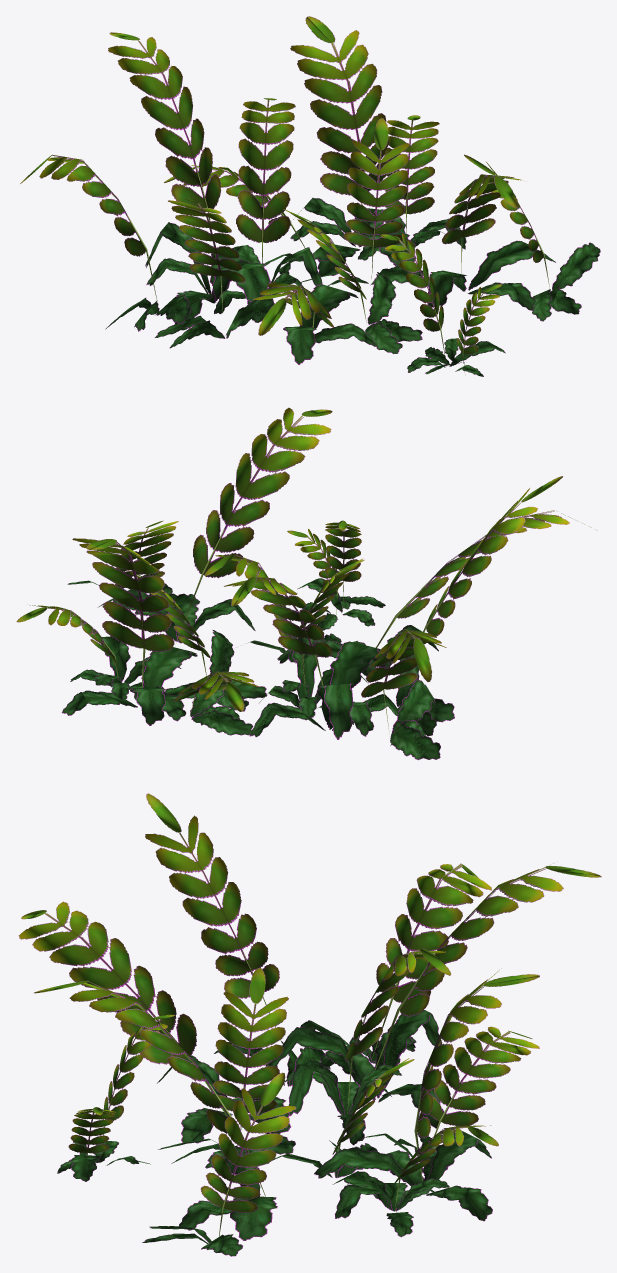
Rendered from n_SWFgogra04c.glb.
The picture shows the model from 3 angles, top to bottom: view 1: azimuth 30°, elevation 25°; view 2: azimuth 150°, elevation 25°; view 3: azimuth 270°, elevation 25°; orthographic projection. The views are drawn at different scales.
Visible parts, largest first — view 1: n_SWFgogra04c; view 2: n_SWFgogra04c; view 3: n_SWFgogra04c.
Boxes of the visible parts, <box> form: n_SWFgogra04c: <box>20,16,600,376</box>; n_SWFgogra04c: <box>16,407,591,760</box>; n_SWFgogra04c: <box>18,793,601,1256</box>.
Bounding box in the file's own units: 3 × 1.33 × 2.86.
4 materials, 4 textured.
